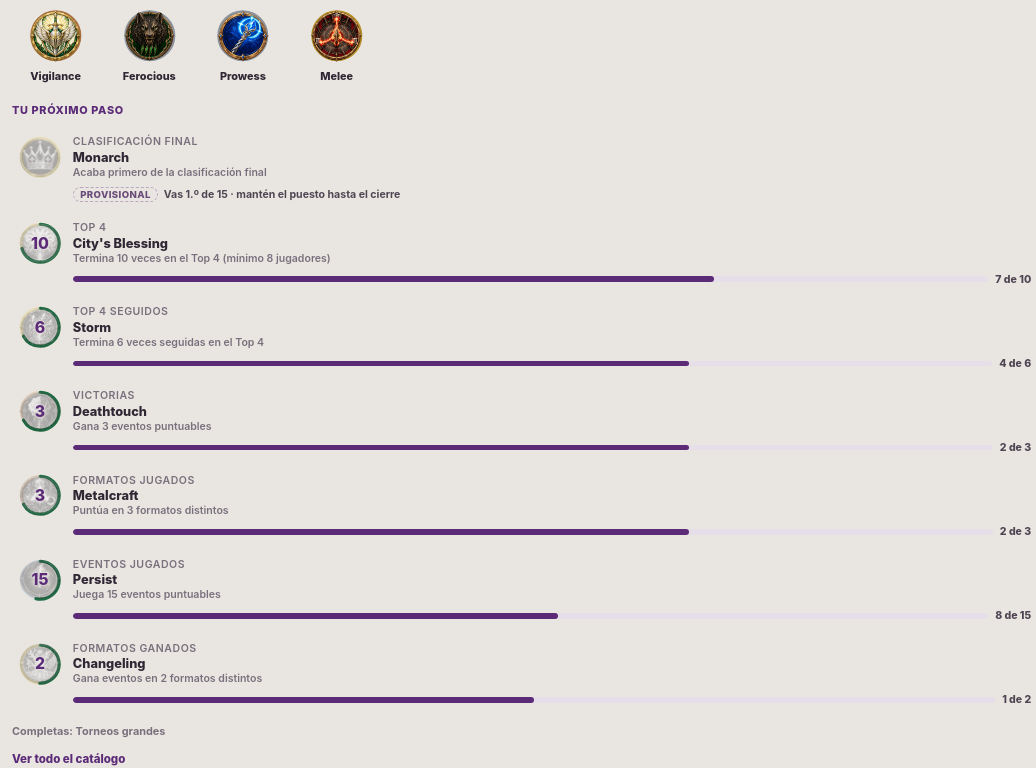
Test case: SeasonBadgesPanel › keeps the whole catalogue folded until asked, grouped by ladder
(page scrolled)
Click the button "Ver todo el catálogo". click: (69, 759)
box: [12,749,125,767]
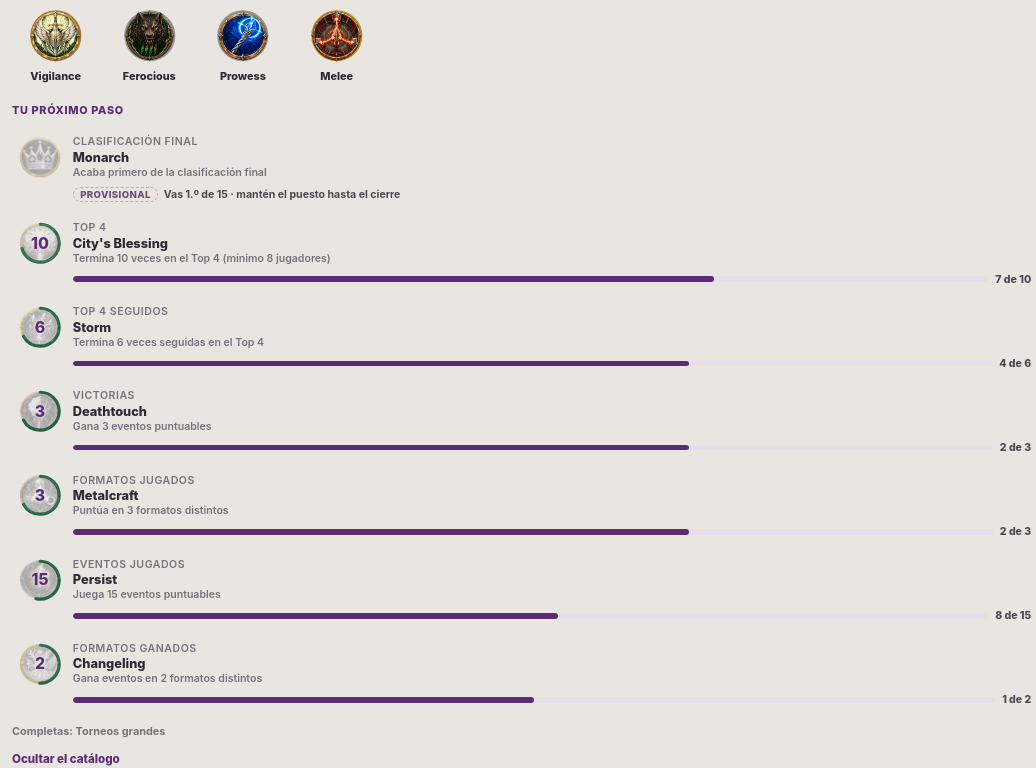
Check: the button "Ocultar el catálogo" is expanded, box [12,749,120,767]
